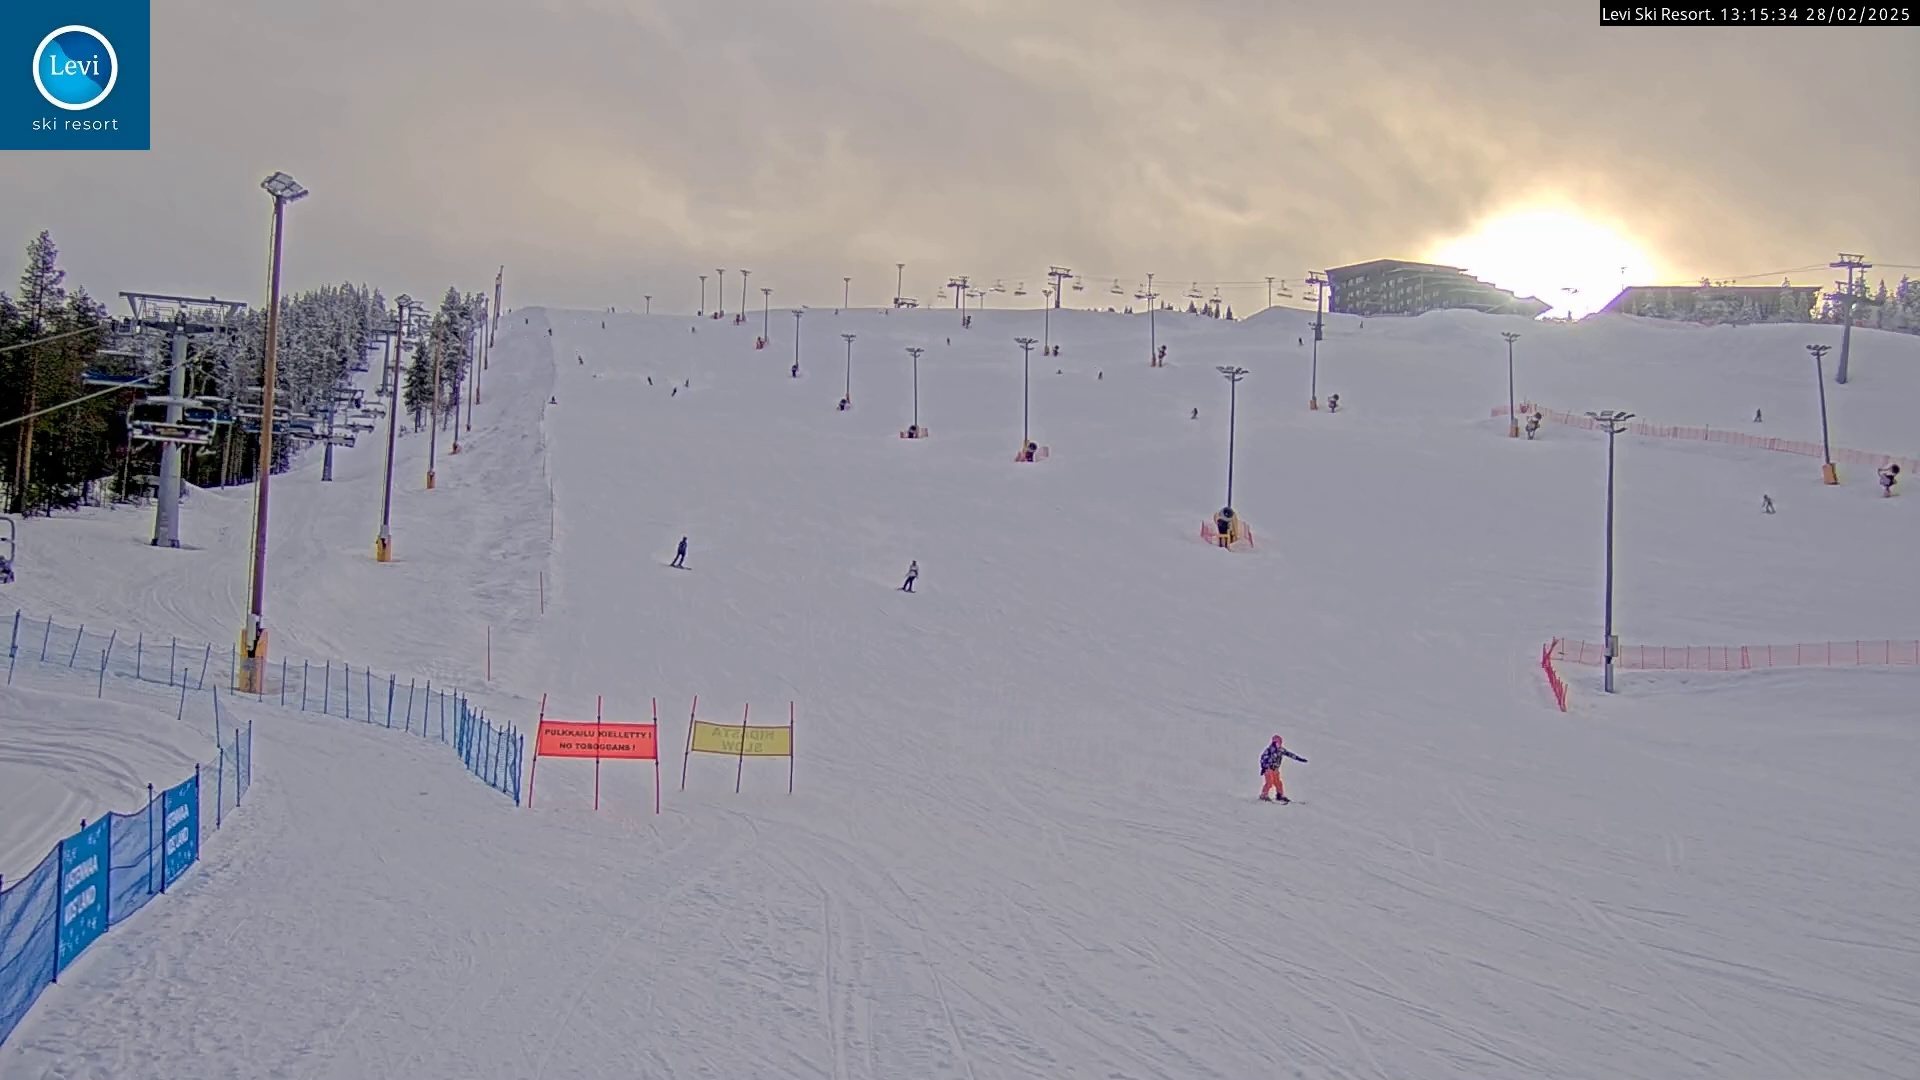skier: (1257, 733, 1309, 806)
